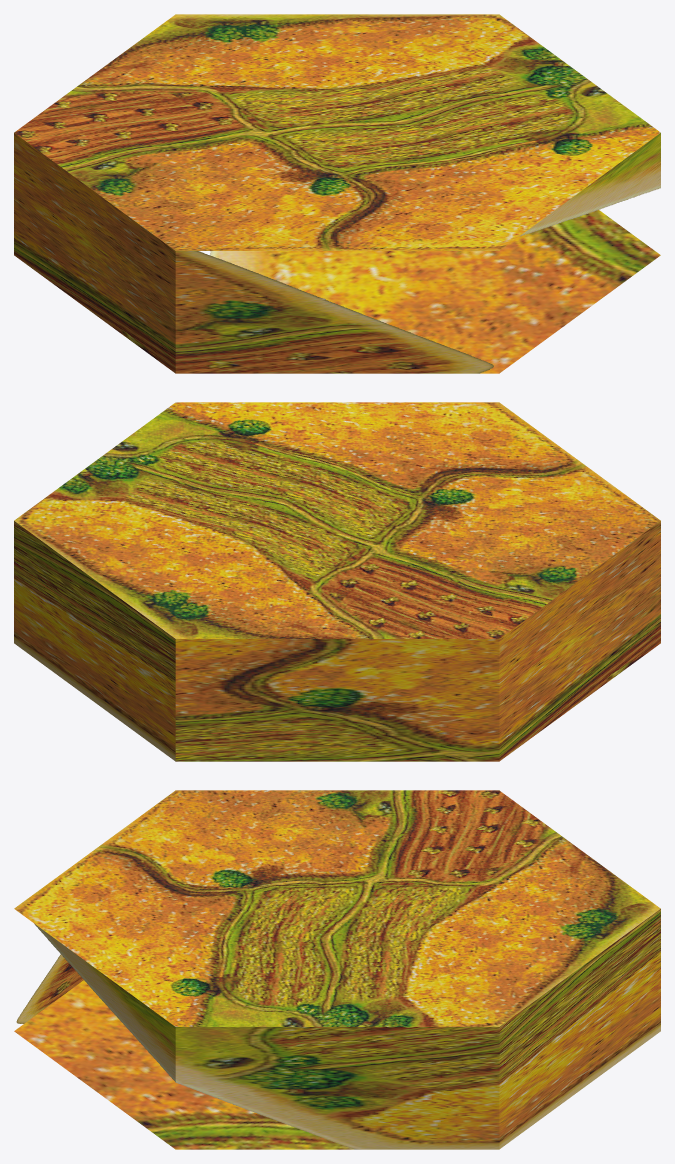
File: brickHex.fbx
3 views of the same model, one above another, from view 1: azimuth 30°, elevation 25°; view 2: azimuth 150°, elevation 25°; view 3: azimuth 270°, elevation 25° (orthographic).
Visible parts, largest first — view 1: Circle.001; view 2: Circle.001; view 3: Circle.001.
Part boxes in pixels (x1,y1,x2,y2): Circle.001: (14, 14, 660, 373); Circle.001: (14, 402, 660, 761); Circle.001: (14, 790, 660, 1149).
Bounding box in the file's own units: 173 × 41.81 × 200.
